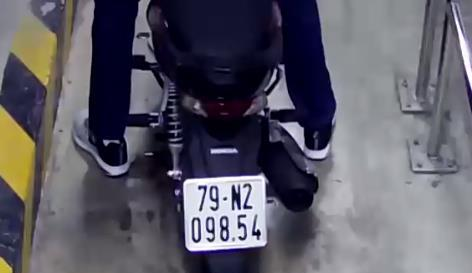lisence: (182, 177, 270, 250)
